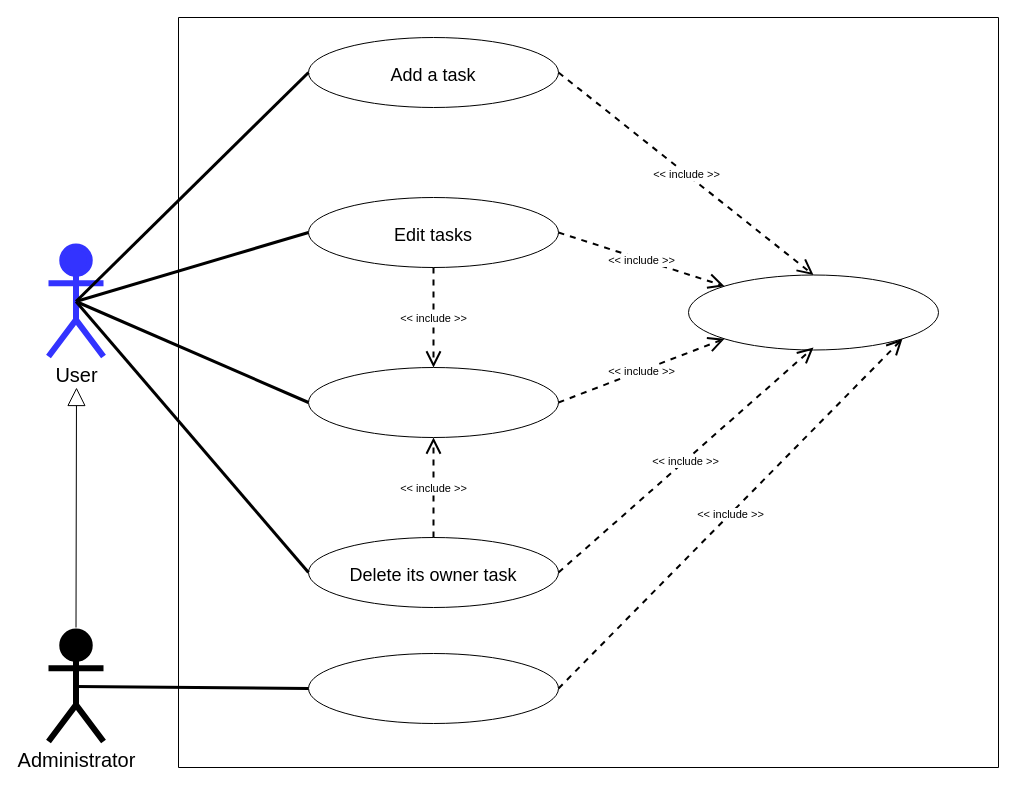
The diagram is 1016 pixels wide and 790 high, and some of its shapes have lost their labels. The shapes that lost their labels are listed below. From the top down, each one's centre as x and y in pixels, then its label:
At pixel 813 312: "To log in".
At pixel 433 402: "See all tasks".
At pixel 433 688: "Delete orphan tasks".
